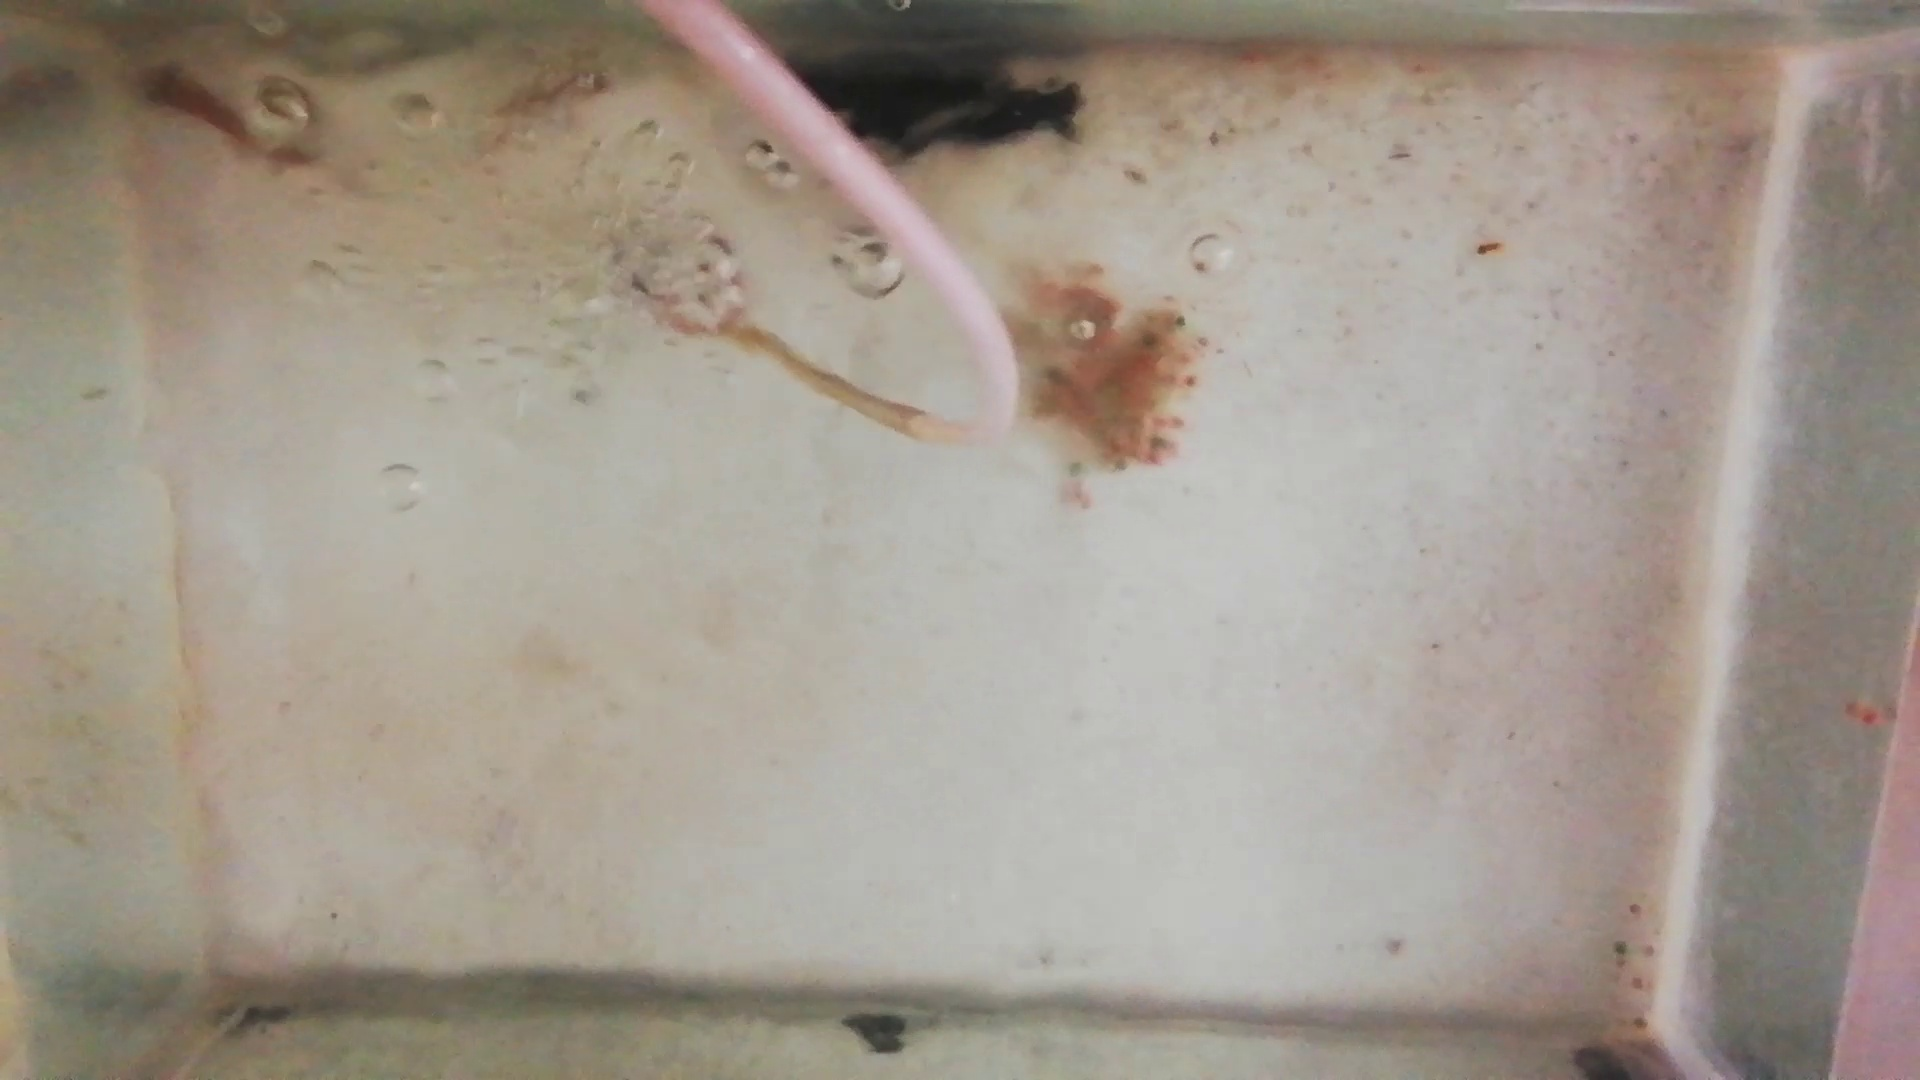fish: (132, 63, 311, 169), (485, 69, 611, 123)
